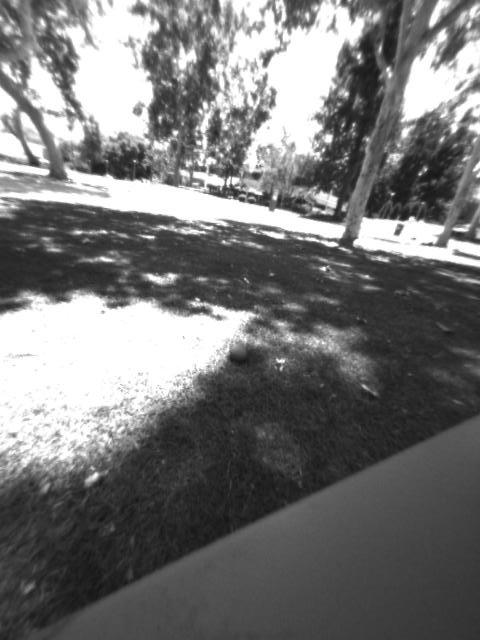dogtoy: (217, 332, 258, 374)
